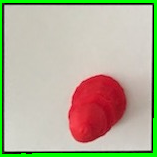Red Bishop: (61, 70, 128, 144)
